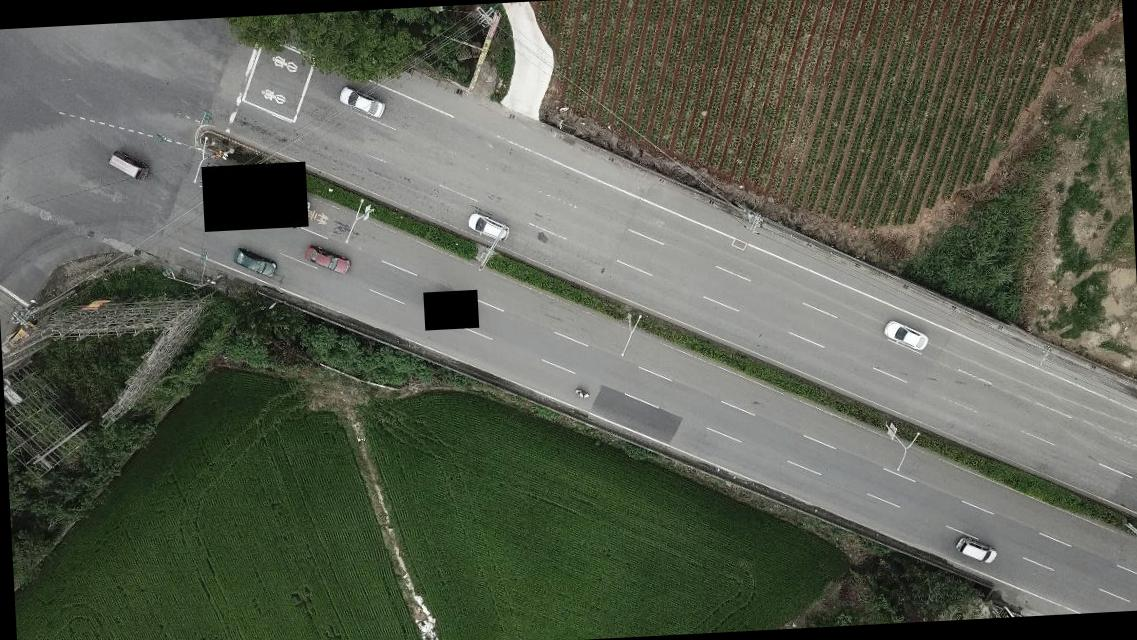vehicle: (230, 246, 278, 282), (340, 86, 388, 120), (304, 243, 352, 276), (882, 319, 928, 352), (108, 149, 150, 185), (466, 211, 510, 244), (956, 536, 997, 565)
